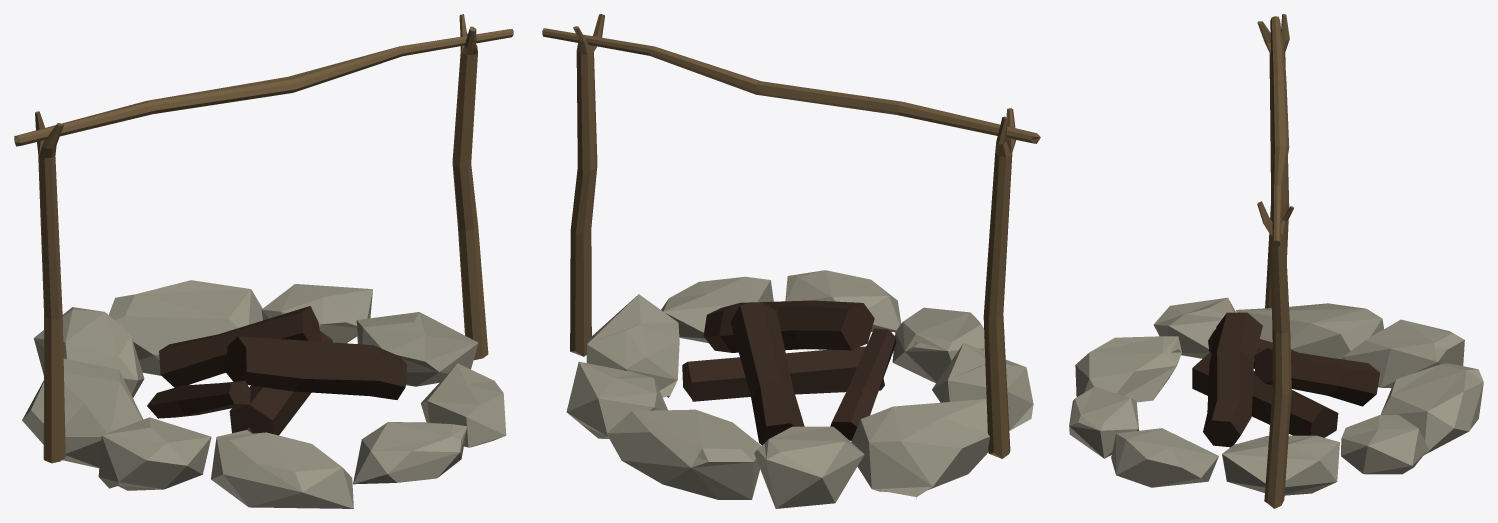
Rendered from island_campfire.fbx.
3 renders of one model, left to right at view 1: azimuth 30°, elevation 25°; view 2: azimuth 150°, elevation 25°; view 3: azimuth 270°, elevation 25°, orthographic. The views are drawn at different scales.
Visible parts, largest first — view 1: Cylinder.022, Cylinder.005, Cylinder.018; view 2: Cylinder.022, Cylinder.018, Cylinder.005; view 3: Cylinder.022, Cylinder.018, Cylinder.005.
Boxes of the visible parts, box(x1,y1,x2,y2) form: Cylinder.022: box(22, 280, 506, 508); Cylinder.005: box(14, 14, 513, 463); Cylinder.018: box(147, 306, 407, 435); Cylinder.022: box(566, 270, 1033, 508); Cylinder.018: box(682, 300, 896, 445); Cylinder.005: box(542, 14, 1040, 458); Cylinder.022: box(1069, 297, 1483, 495); Cylinder.018: box(1192, 312, 1379, 447); Cylinder.005: box(1257, 14, 1293, 508).
Bounding box in the file's own units: 2.37 × 1.65 × 1.95.
